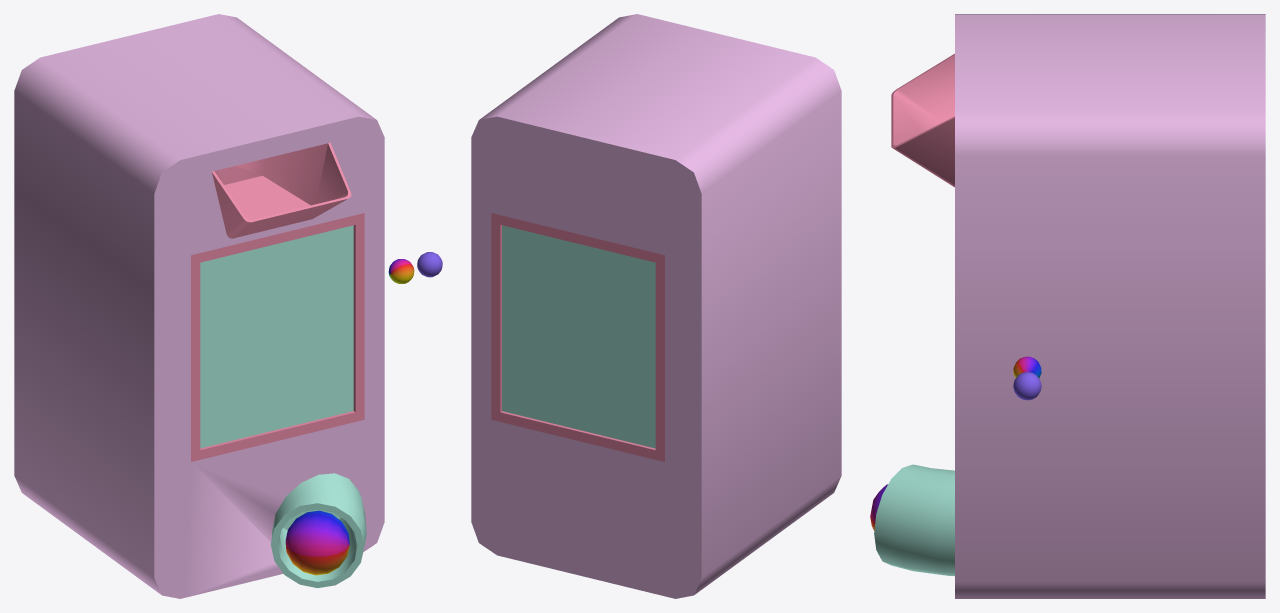
The model's file is TOP OTOMATI 2  1.fbx.
The picture shows the model from 3 angles, left to right: view 1: azimuth 30°, elevation 25°; view 2: azimuth 150°, elevation 25°; view 3: azimuth 270°, elevation 25°; orthographic projection. The views are drawn at different scales.
Parts seen in each view (by area): view 1: Cube, Cube.001, Cylinder, Torus.003; view 2: Cube, Cube.002; view 3: Cube, Cylinder, Torus.004.
Part boxes in pixels (x1,y1,x2,y2): Cube: [14, 14, 384, 598]; Cube.001: [200, 225, 353, 448]; Cylinder: [270, 473, 366, 588]; Torus.003: [285, 510, 349, 575]; Cube: [471, 14, 841, 598]; Cube.002: [502, 225, 655, 448]; Cube: [891, 14, 1265, 598]; Cylinder: [874, 464, 954, 576]; Torus.004: [1013, 372, 1041, 400].
Bounding box in the file's own units: 7.51 × 9.87 × 7.27.
